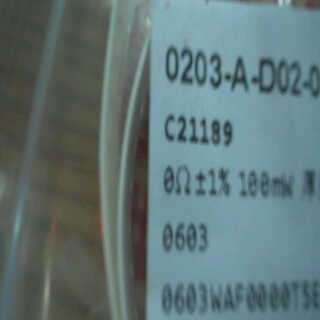0R: (158, 148, 293, 263)
